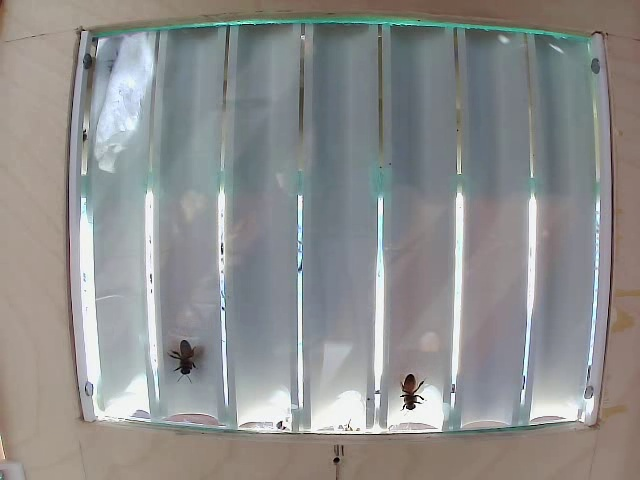bee: (391, 364, 429, 411), (164, 336, 204, 376)
